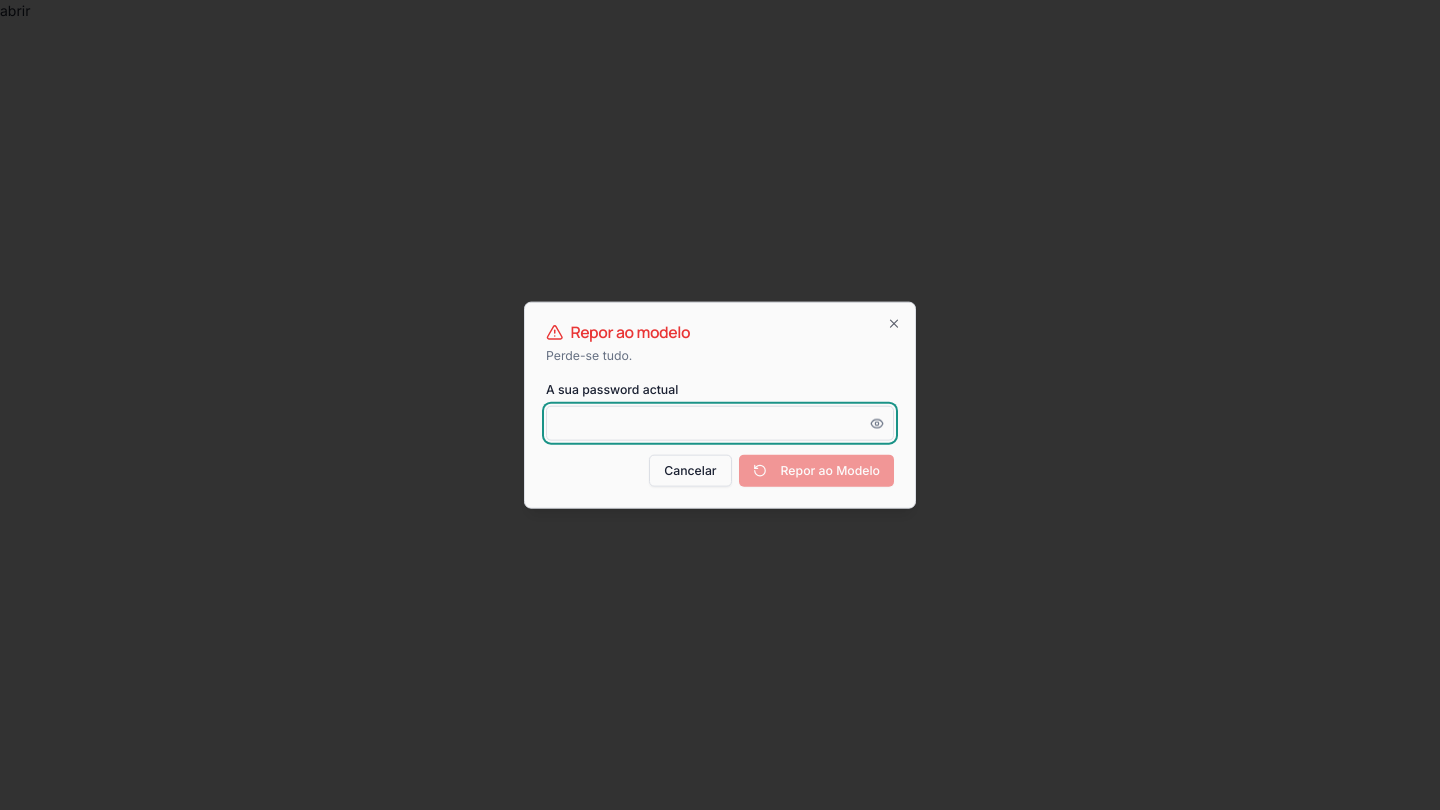
ReporAoModeloDialog › processos em fases que o modelo não tem: lista as fases e quantos processos
Type "x" into the password field labelled "A sua password actual".
click(720, 423); type("x")  # box 546,406 -> 894,441
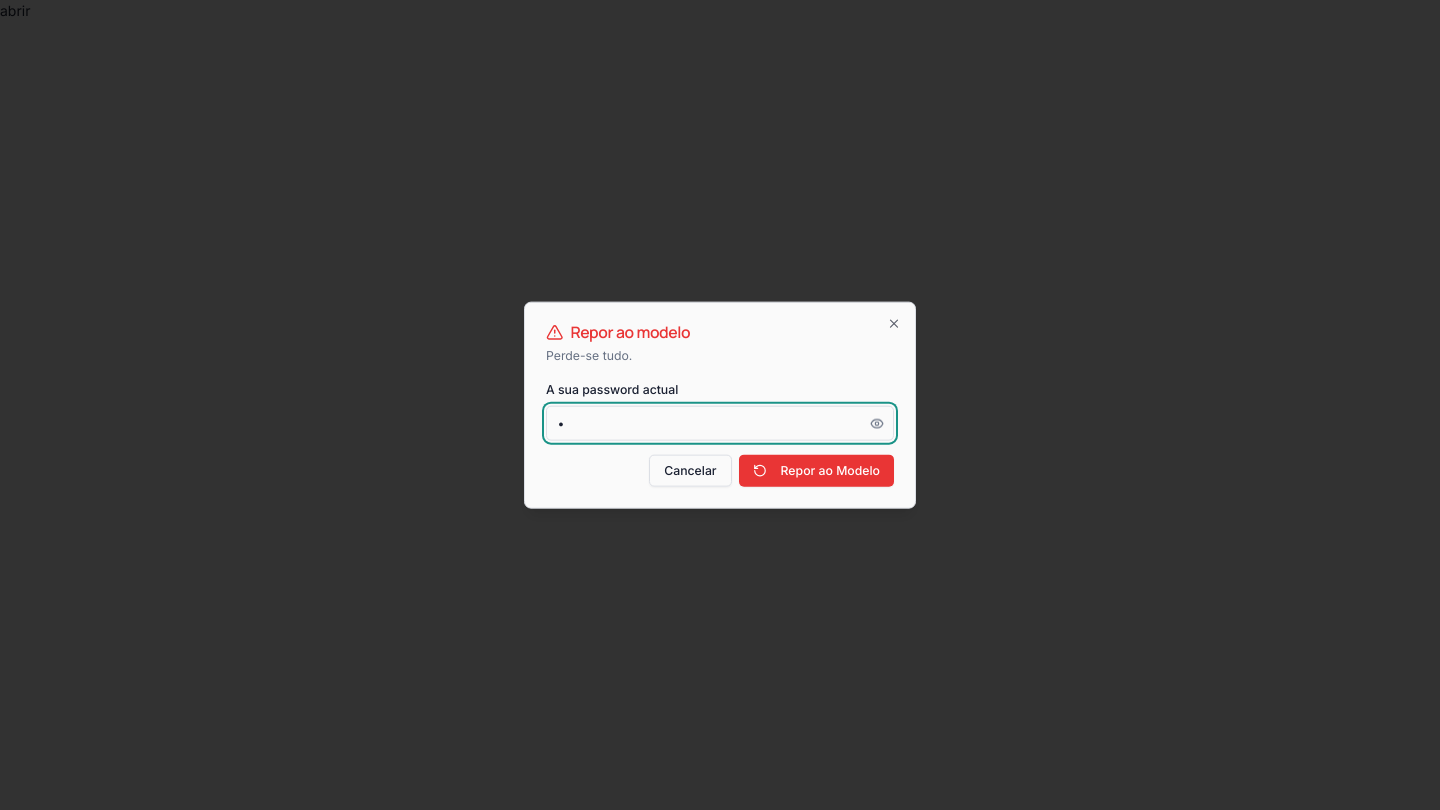
Click the button "Repor ao Modelo".
click(816, 471)  # box 739,455 -> 894,486
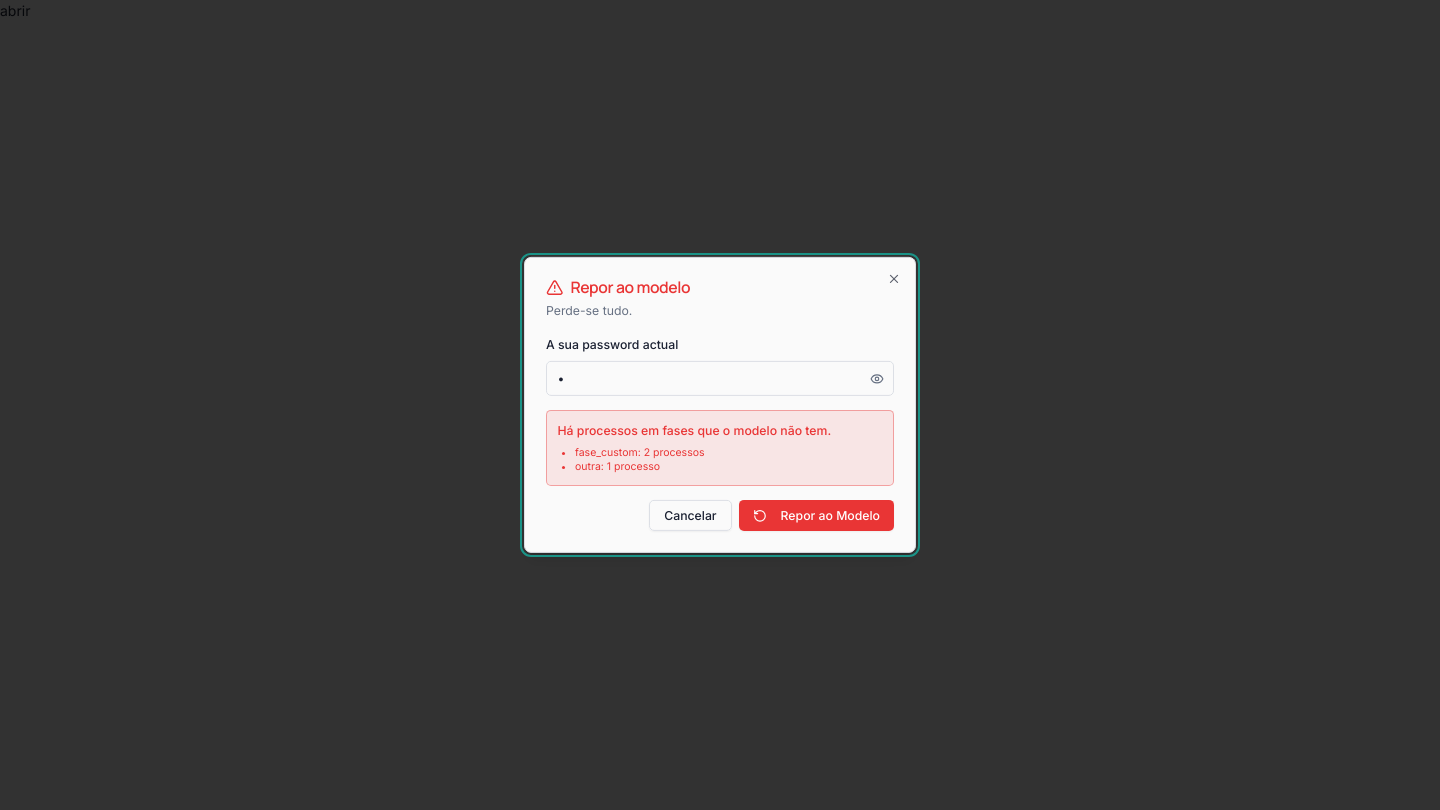
Expected: the list with test id "repor-modelo-fases" does not show "outra: 1 processos", 575,446 -> 705,473
Expected: the list with test id "repor-modelo-fases" shows "fase_custom: 2 processos", 575,446 -> 705,473
Expected: the list with test id "repor-modelo-fases" shows "outra: 1 processo", 575,446 -> 705,473
